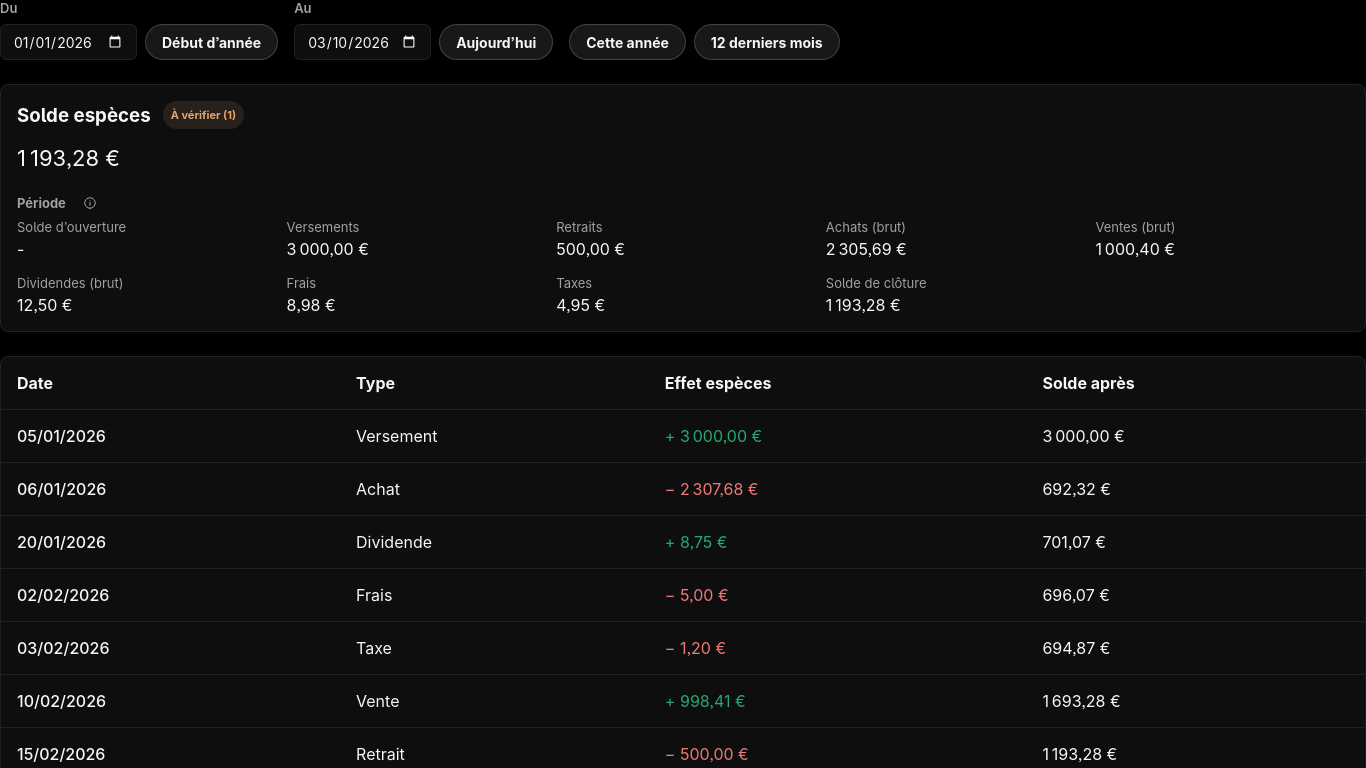
Test: CashTab › keeps information rows in a collapsed disclosure next to a warning
The width and height of the screenshot is (1366, 768).
Click the button "À vérifier (1)": click(203, 115) [163, 101, 244, 129]
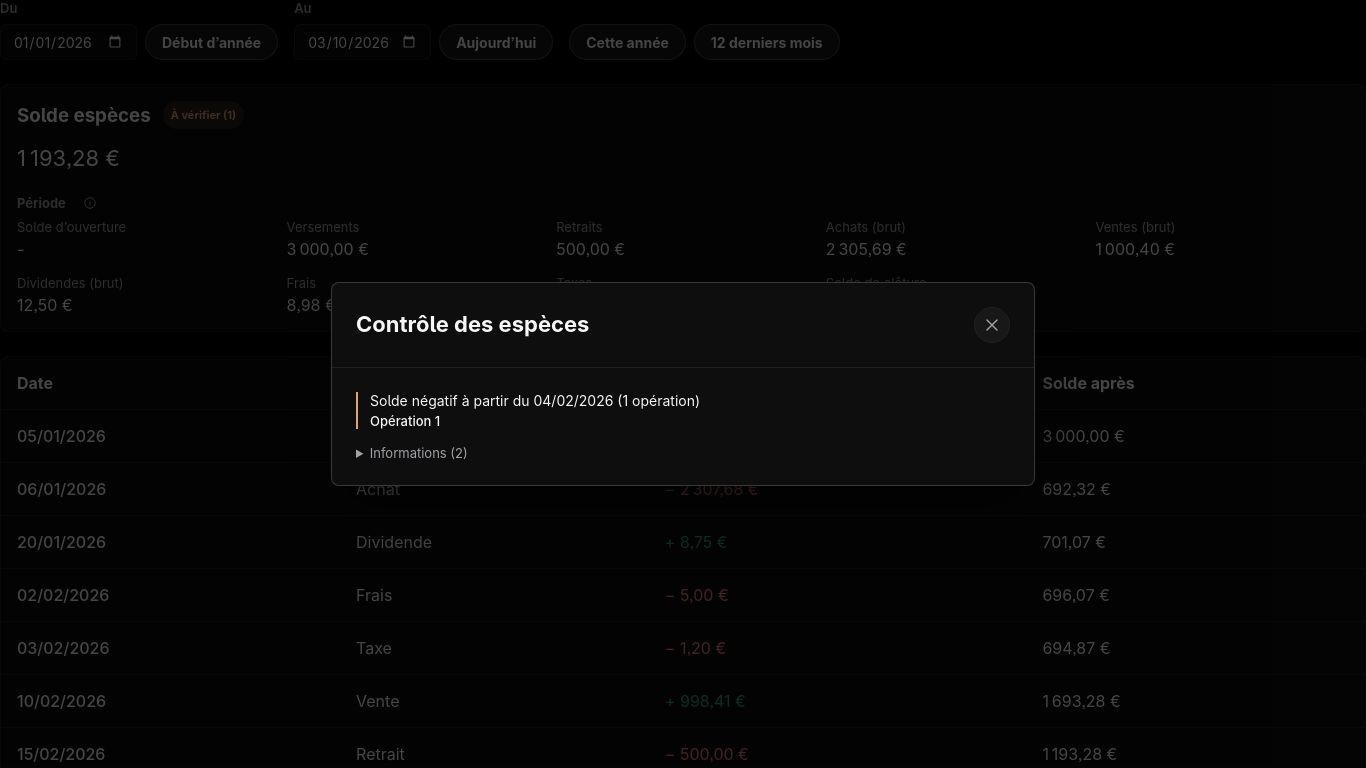
Click the heading "Informations (2)": click(419, 453) [370, 445, 468, 461]
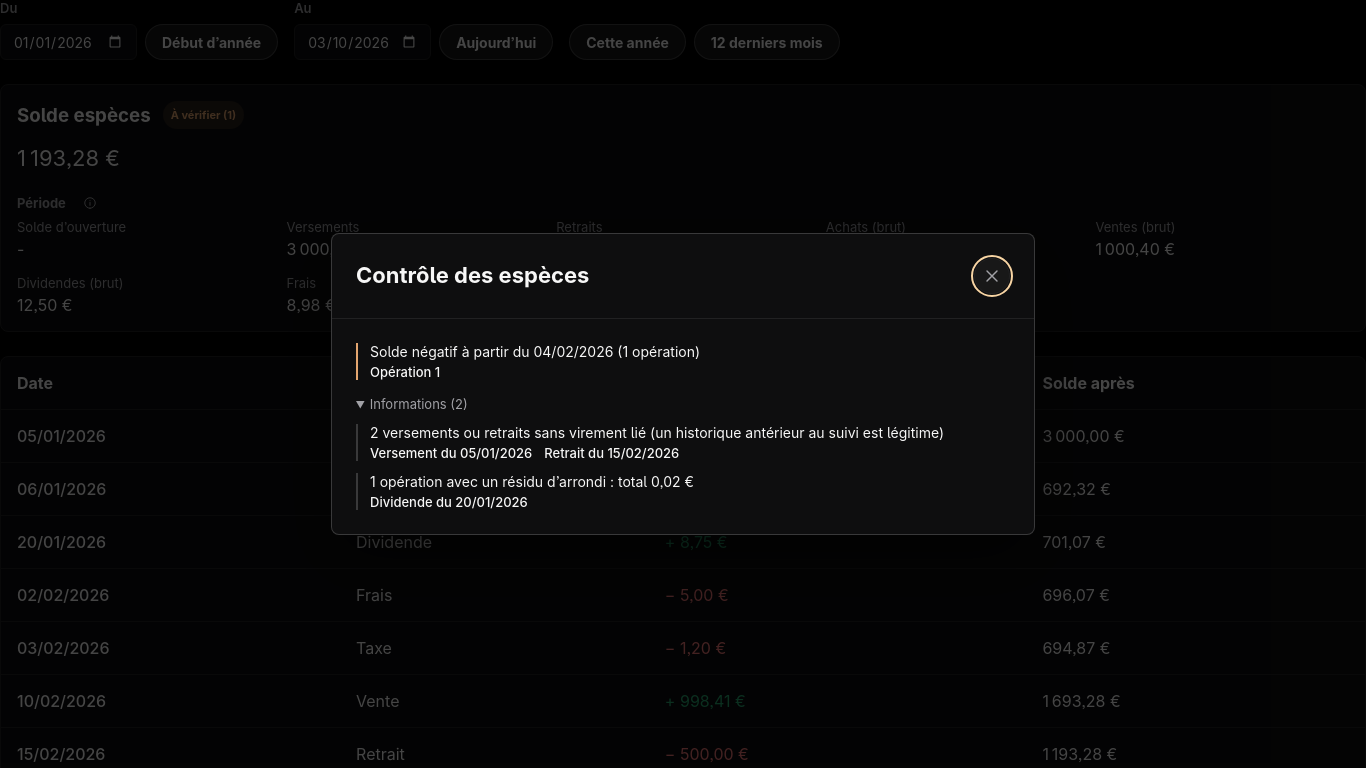
Result: the text "1 opération avec un résidu d’arrondi : total 0,02 €" is shown at [370, 473, 694, 490]
Result: the text "sans virement lié" is shown at [370, 424, 944, 441]
